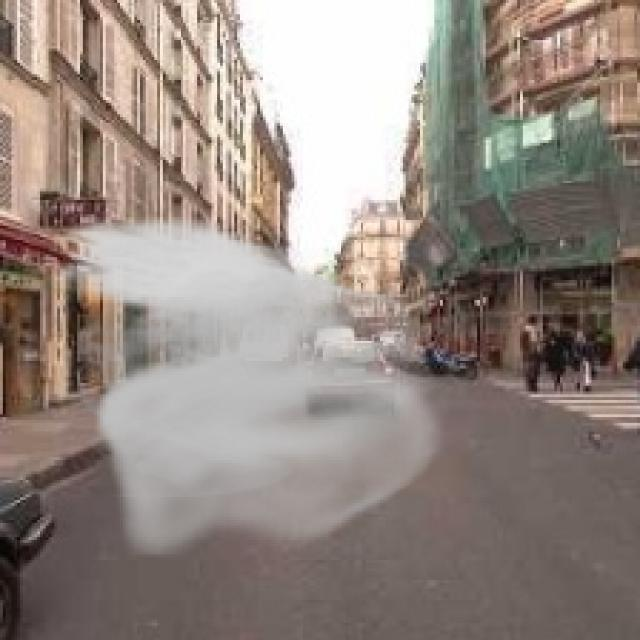Smoke: (48, 212, 454, 557)
